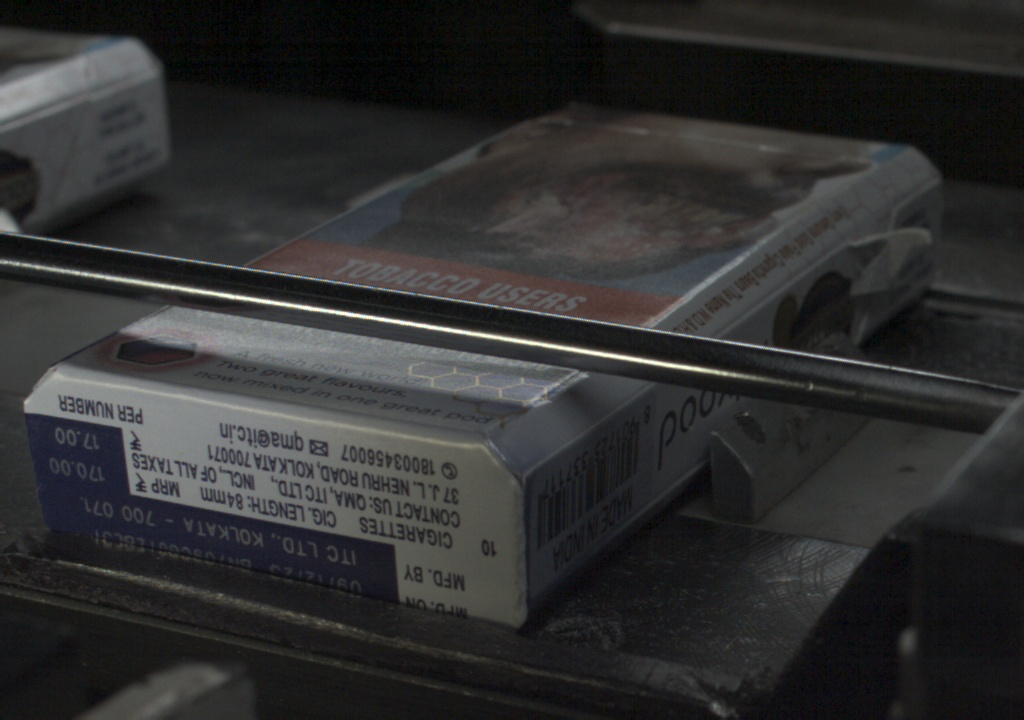g_bottom: (22, 366, 523, 631)
g_label: (39, 490, 396, 597)
g_lmiter: (728, 270, 807, 333), (526, 423, 595, 473), (596, 381, 653, 423)
g_miter: (894, 177, 942, 210)
ng_lmiter: (833, 215, 926, 293)
price: (32, 421, 129, 489)
